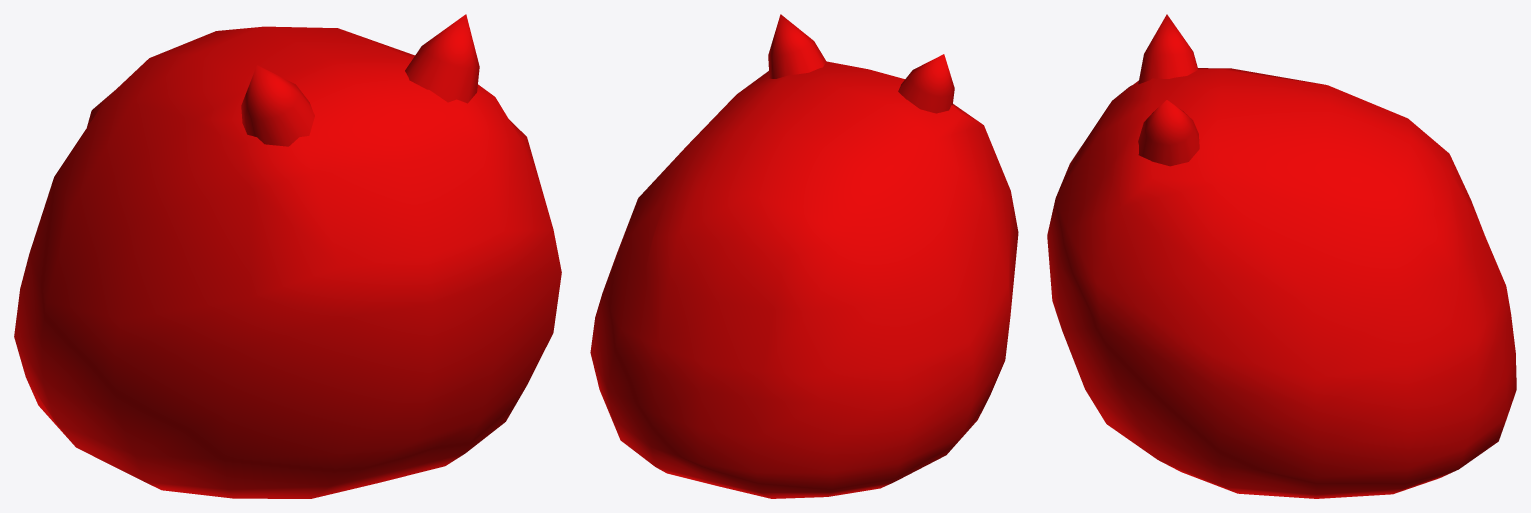
The model's file is m_angry.fbx.
The picture shows the model from 3 angles, left to right: view 1: azimuth 30°, elevation 25°; view 2: azimuth 150°, elevation 25°; view 3: azimuth 270°, elevation 25°; orthographic projection. The views are drawn at different scales.
Parts seen in each view (by area): view 1: m_angry; view 2: m_angry; view 3: m_angry.
Part boxes in pixels (x1=…): m_angry: x1=14, y1=14, x2=561, y2=498; m_angry: x1=590, y1=14, x2=1018, y2=498; m_angry: x1=1047, y1=14, x2=1516, y2=498.
Size of the model in its own units: 1.48 by 1.36 by 1.55.
